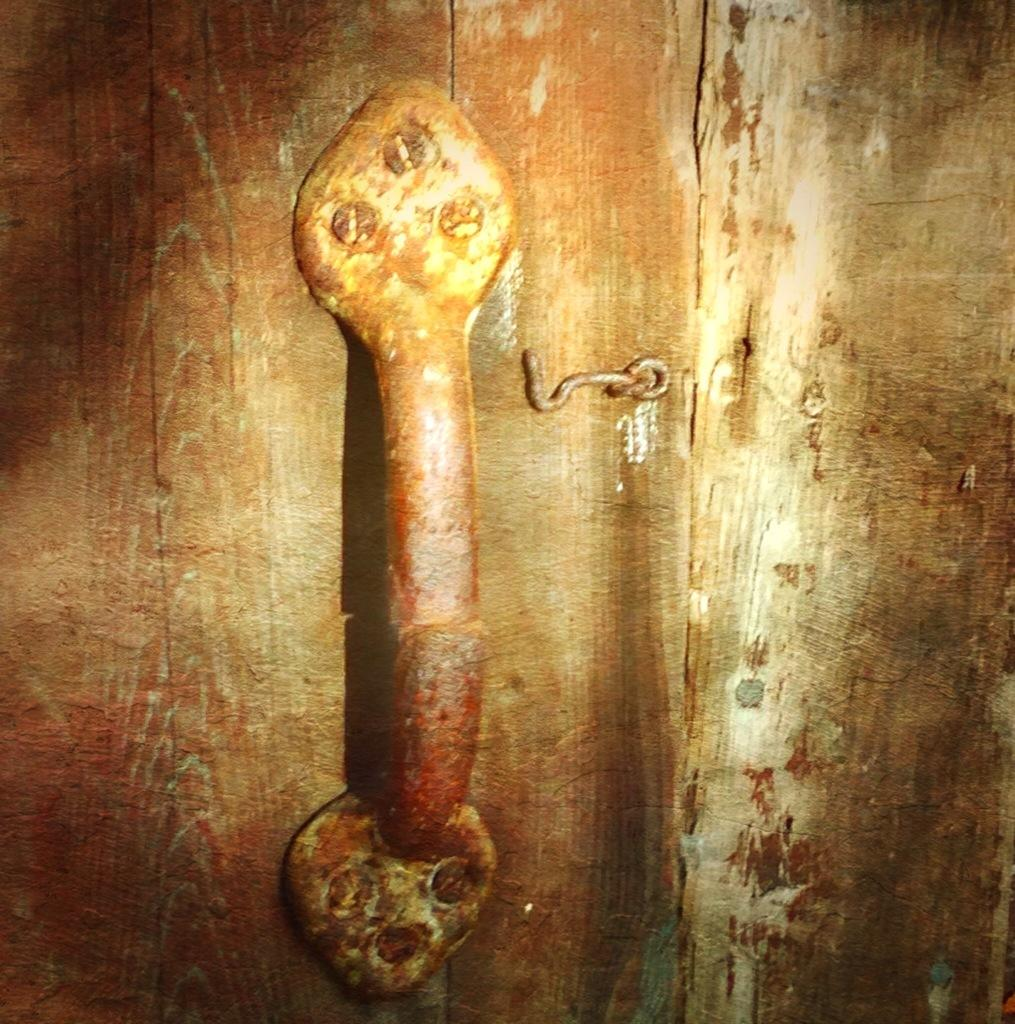handle: (306, 154, 516, 852)
